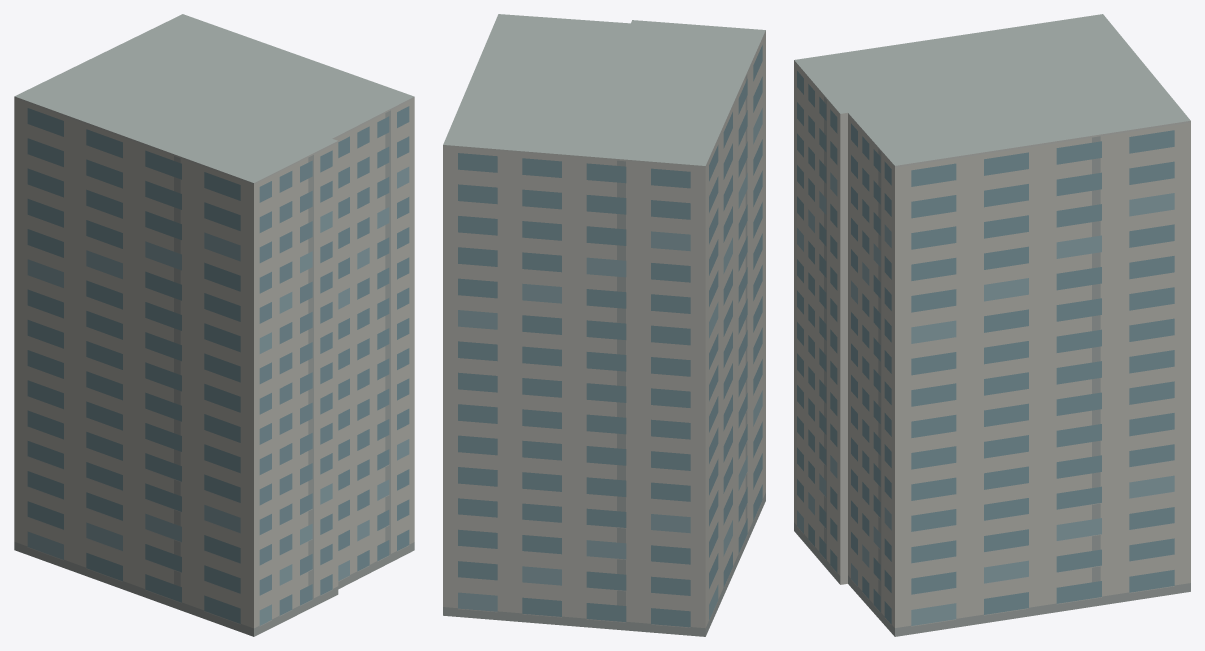
File: survey-upis-32938470.glb
The picture shows the model from 3 angles, left to right: view 1: azimuth 30°, elevation 25°; view 2: azimuth 150°, elevation 25°; view 3: azimuth 270°, elevation 25°; orthographic projection. The views are drawn at different scales.
Visible parts, largest first — view 1: survey-upis-32938470.tmp; view 2: survey-upis-32938470.tmp; view 3: survey-upis-32938470.tmp.
Boxes of the visible parts, left/top/right/bottom form: survey-upis-32938470.tmp: left=14, top=14, right=414, bottom=636; survey-upis-32938470.tmp: left=443, top=14, right=765, bottom=636; survey-upis-32938470.tmp: left=794, top=14, right=1190, bottom=636.
Bounding box in the file's own units: 47.09 × 68.06 × 51.97.
